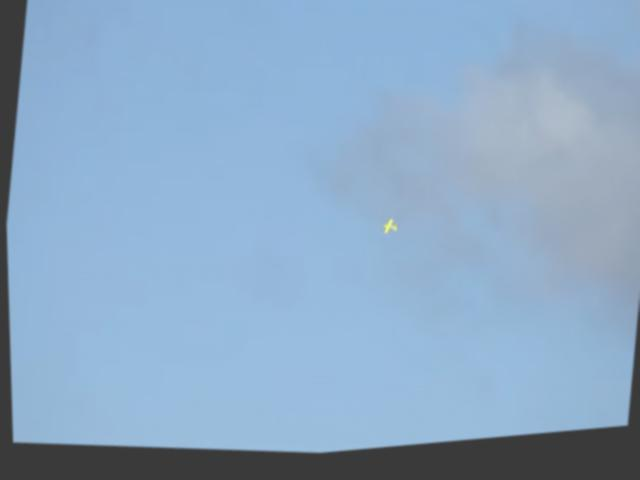plane: (378, 222, 397, 242)
